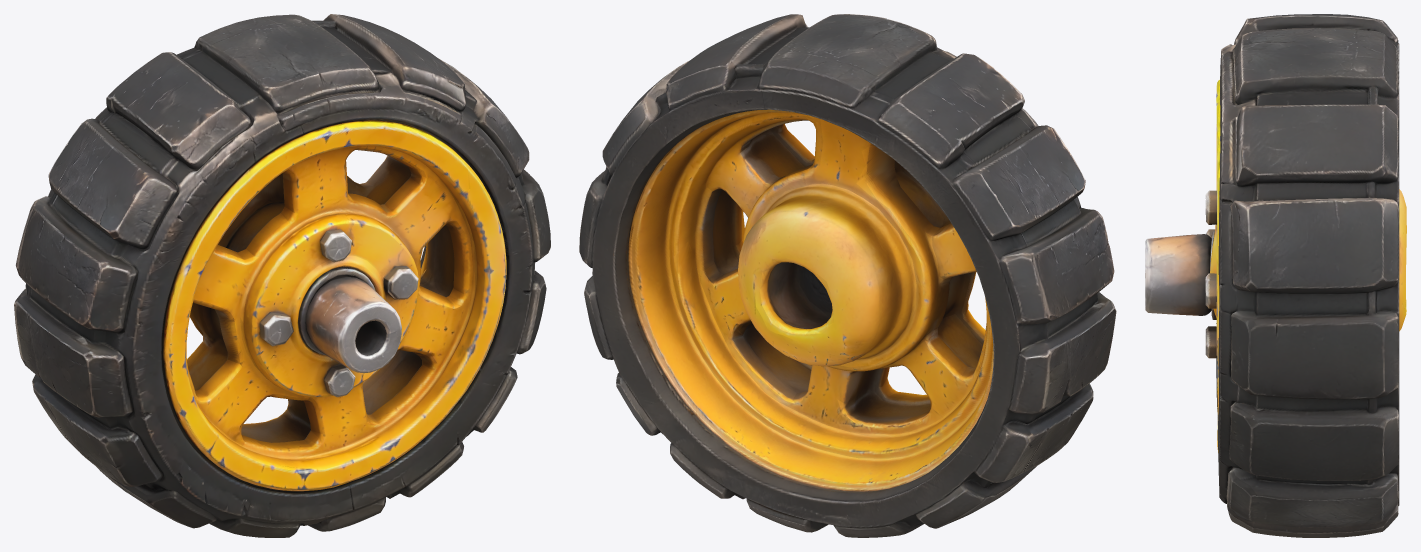
File: base_basic_shaded.glb
3 renders of one model, left to right at view 1: azimuth 30°, elevation 25°; view 2: azimuth 150°, elevation 25°; view 3: azimuth 270°, elevation 25°, orthographic. The views are drawn at different scales.
Parts seen in each view (by area): view 1: model; view 2: model; view 3: model.
Part boxes in pixels (x1=…): model: x1=14, y1=14, x2=550, y2=537; model: x1=579, y1=14, x2=1116, y2=537; model: x1=1145, y1=14, x2=1406, y2=537.
Size of the model in its own units: 1.9 by 1.8 by 0.9311.
Materials: 1 (1 with a texture image).
